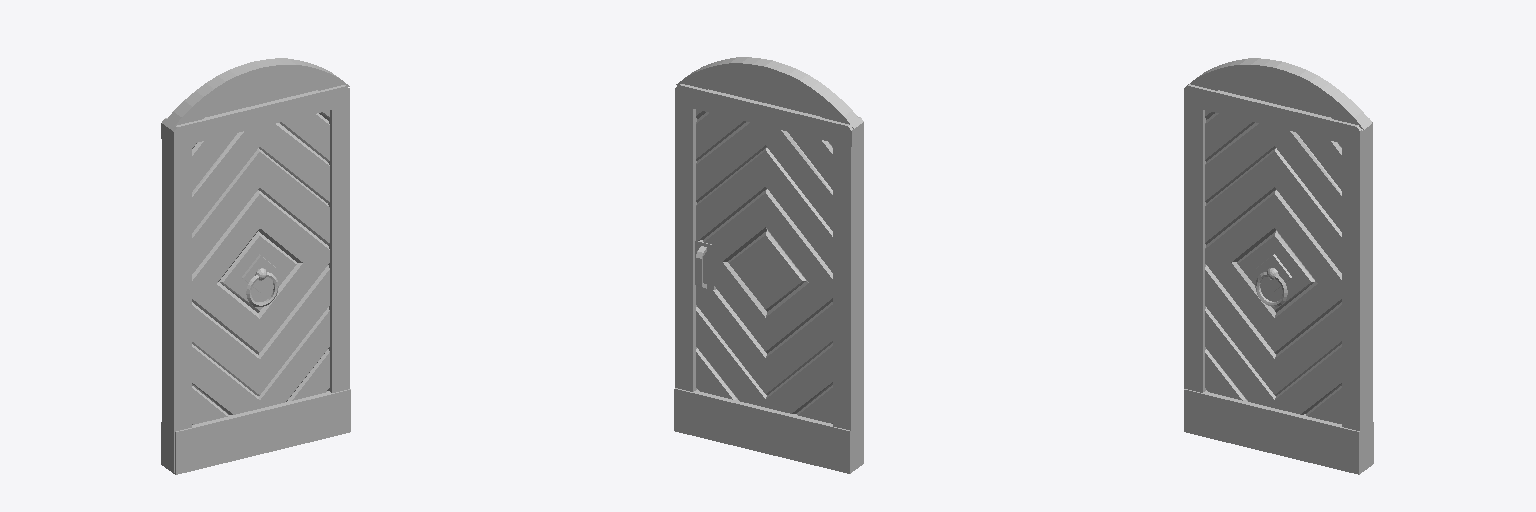
File: Door_6_Round.obj
3 views of the same model, side by side, from view 1: azimuth 30°, elevation 25°; view 2: azimuth 150°, elevation 25°; view 3: azimuth 330°, elevation 25° (orthographic).
Visible parts, largest first — view 1: Door_6_Round; view 2: Door_6_Round; view 3: Door_6_Round.
Part boxes in pixels (bbox=[...]): Door_6_Round: bbox=[161, 58, 350, 474]; Door_6_Round: bbox=[674, 57, 863, 473]; Door_6_Round: bbox=[1184, 58, 1373, 474].
Bounding box in the file's own units: 1.13 × 2.32 × 0.1995.